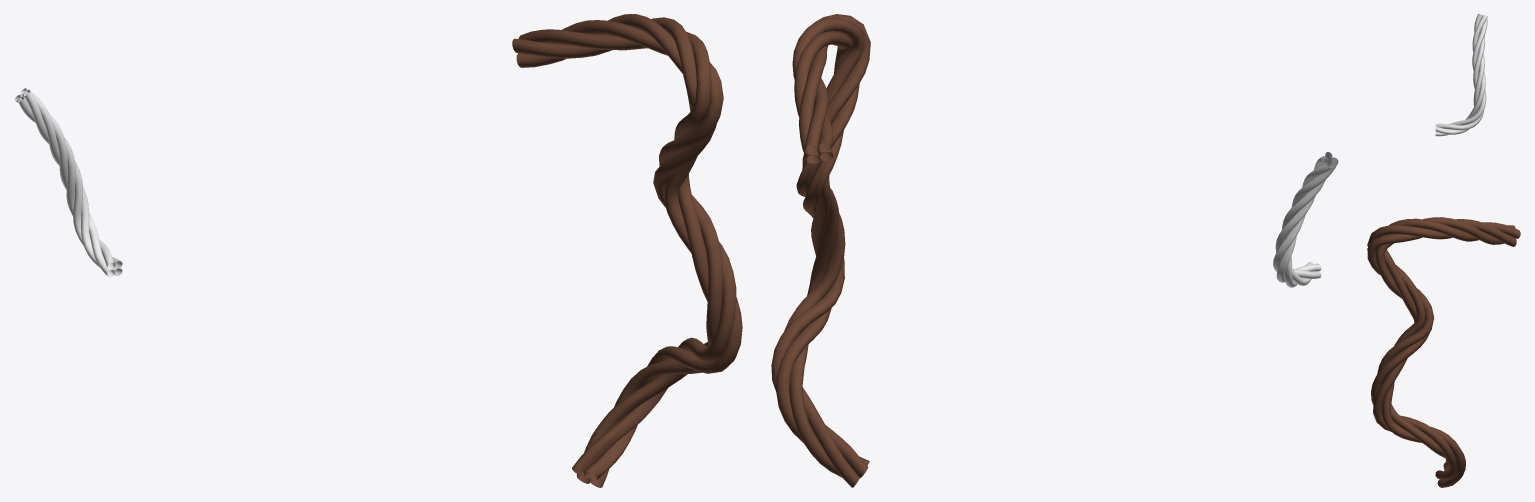
File: Racine mur 2.fbx
3 views of the same model, side by side, from view 1: azimuth 30°, elevation 25°; view 2: azimuth 150°, elevation 25°; view 3: azimuth 270°, elevation 25° (orthographic). The views are drawn at different scales.
Visible parts, largest first — view 1: Cercle, Cercle.001; view 2: Cercle, Cercle.001; view 3: Cercle, Cercle.001.
Boxes of the visible parts, bbox=[...] form: Cercle: bbox=[512, 14, 742, 487]; Cercle.001: bbox=[14, 88, 122, 277]; Cercle: bbox=[771, 14, 870, 487]; Cercle.001: bbox=[1273, 152, 1338, 287]; Cercle: bbox=[1367, 217, 1520, 487]; Cercle.001: bbox=[1435, 14, 1487, 136].
Bounding box in the file's own units: 2947 × 2222 × 989.
